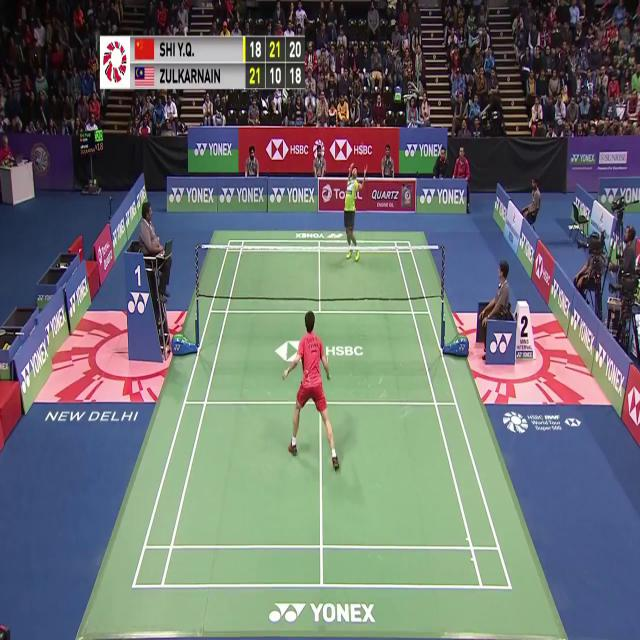Shuttlecock: (362, 64, 368, 76)
